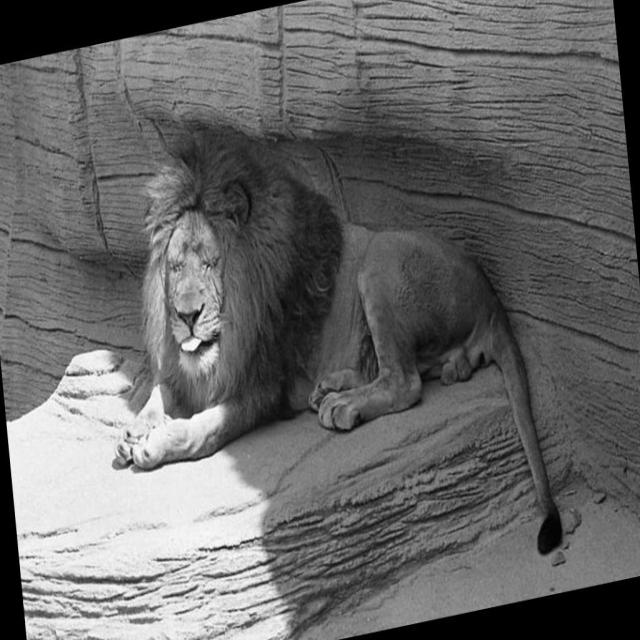Lion: (85, 62, 568, 639)
